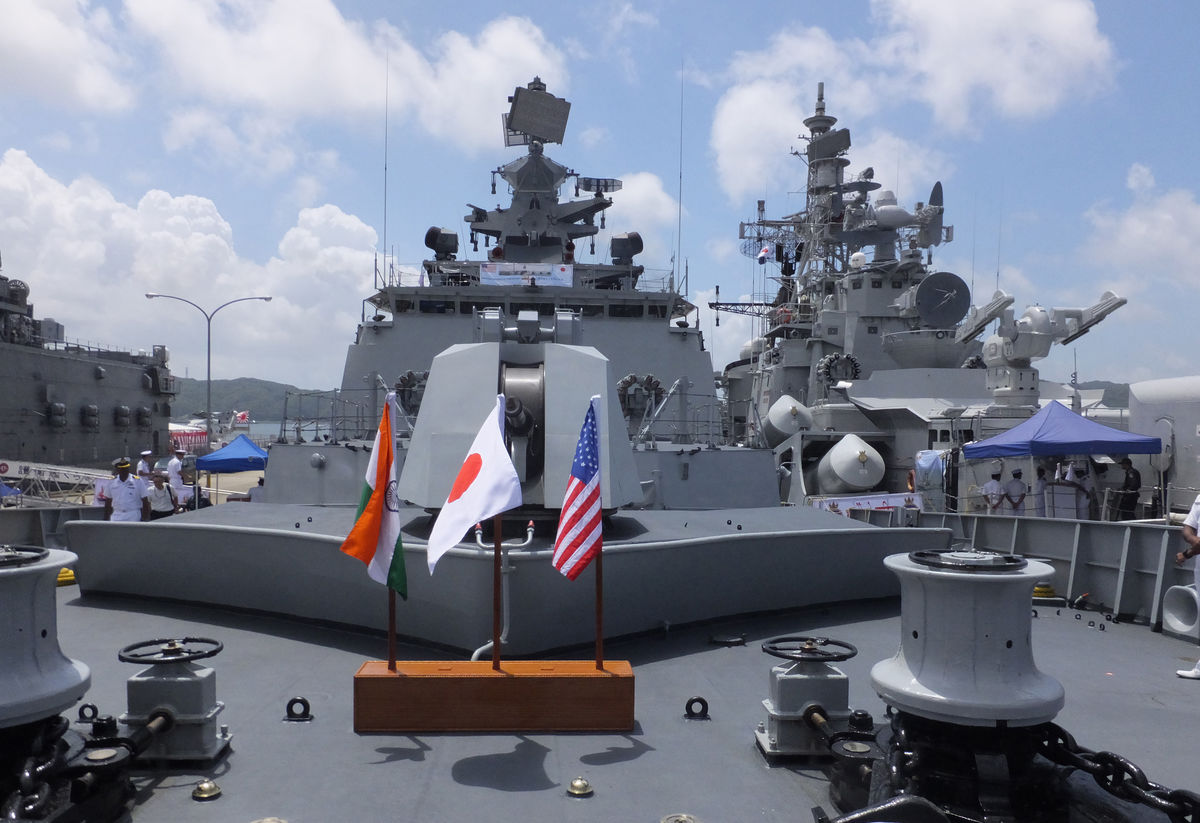Japanese Flag: (424, 388, 524, 588)
